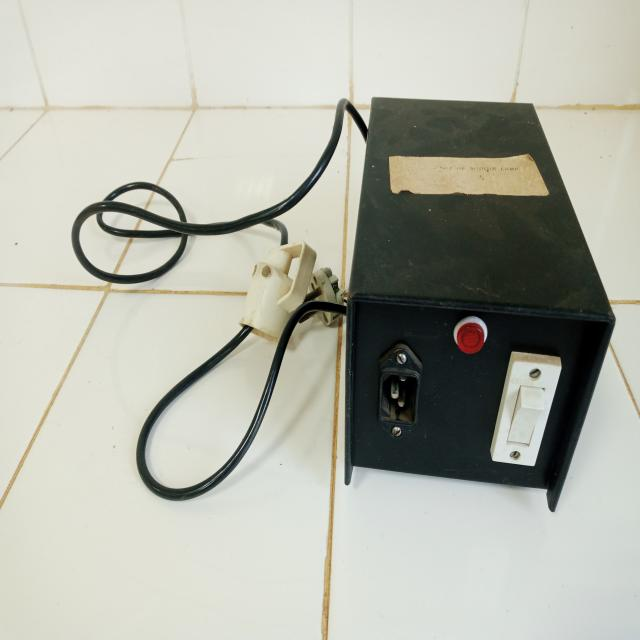Sodium Lamp Power Supply: (346, 74, 624, 510)
